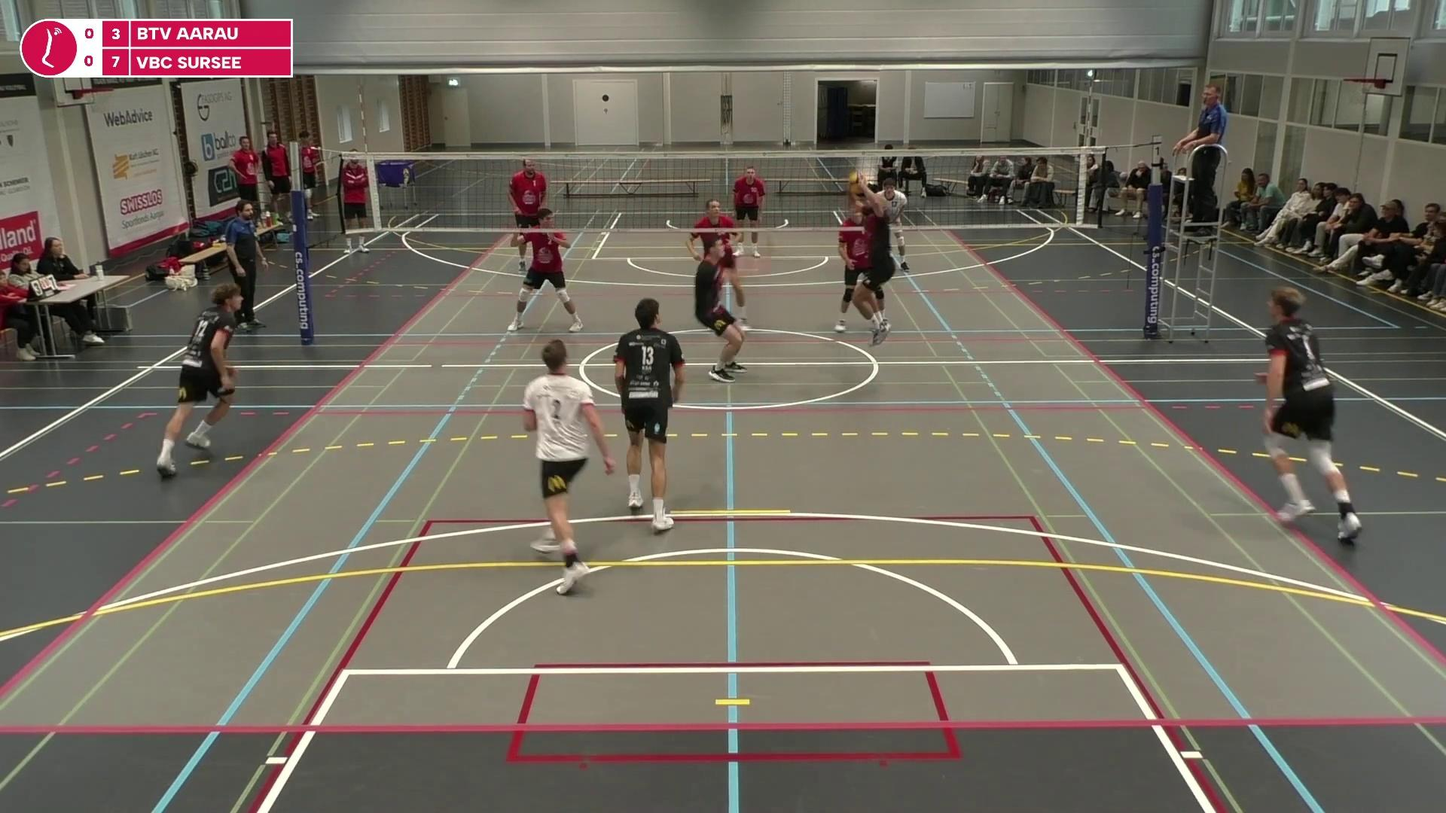Player: (1258, 288, 1362, 542), (523, 340, 615, 594), (613, 298, 685, 533), (157, 285, 237, 477), (508, 210, 582, 332), (694, 232, 746, 381), (834, 210, 873, 332), (508, 159, 547, 266), (732, 165, 767, 257), (877, 178, 911, 271)
Set: (839, 172, 903, 337)
ball: (847, 168, 868, 188)
